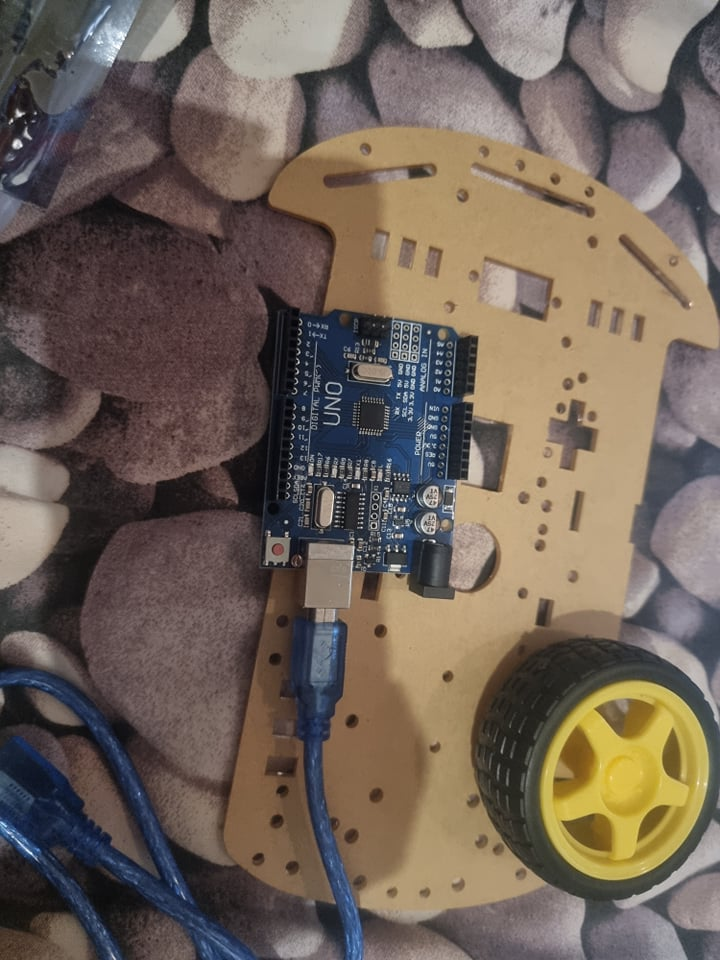UNO R3: (261, 306, 479, 611)
